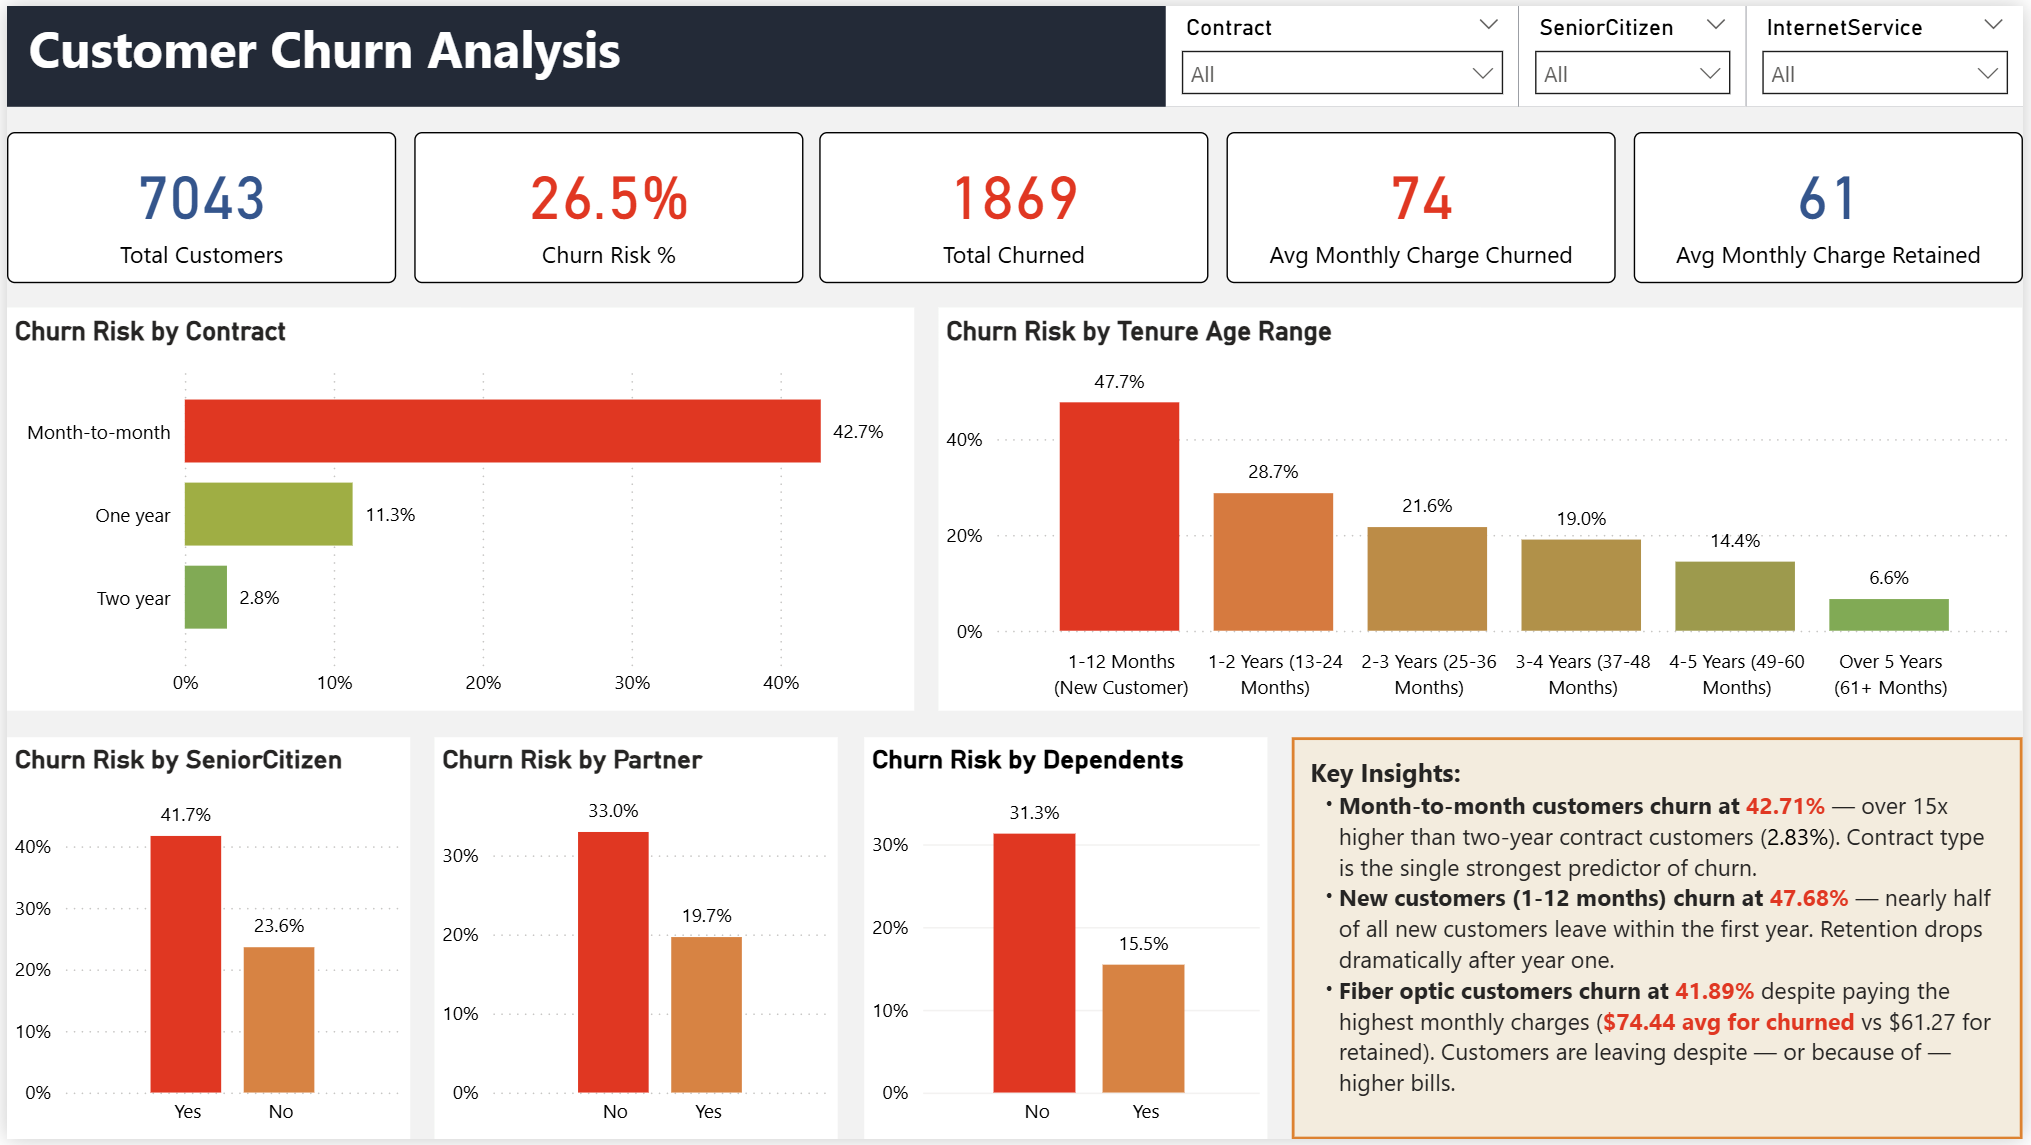

The page's visual inventory and layout, read from the dashboard file:
{"tool":"powerbi","page":{"name":"Customer Analysis","canvas":[1280,720],"ordinal":0},"visuals":[{"type":"card","fields":{"Values":["Customer.Total Customers"]},"box":[0,80,247.2,96],"z":0},{"type":"textbox","box":[0,0,1280,64],"z":1000},{"type":"card","fields":{"Values":["Customer.Churn Rate %"]},"box":[258.2,80,247.2,96],"z":2000},{"type":"clusteredBarChart","title":"Churn Risk by Contract","fields":{"Category":["Customer.Contract"],"Y":["Customer.Churn Rate %"]},"box":[0,192,576,256],"z":3000},{"type":"clusteredColumnChart","title":"Churn Risk by Tenure Age Range","fields":{"Category":["Customer.Tenure Age Range"],"Y":["Customer.Churn Risk %"]},"box":[592,192,688,256],"z":4000},{"type":"card","fields":{"Values":["Customer.Total Churned"]},"box":[516.4,80,247.2,96],"z":5000},{"type":"textbox","box":[816,464,464,256],"z":6000},{"type":"slicer","fields":{"Values":["Customer.InternetService"]},"box":[1104,0,176,64],"z":7000},{"type":"card","fields":{"Values":["Customer.Avg Monthly Charge Churned"]},"box":[774.6,80,247.2,96],"z":8000},{"type":"slicer","fields":{"Values":["Customer.SeniorCitizen"]},"box":[960,0,144,64],"z":9000},{"type":"slicer","fields":{"Values":["Customer.Contract"]},"box":[736,0,224,64],"z":10000},{"type":"card","fields":{"Values":["Customer.Avg Monthly Charge Retained"]},"box":[1032.8,80,247.2,96],"z":11000},{"type":"clusteredColumnChart","title":"Churn Risk by SeniorCitizen","fields":{"Category":["Customer.SeniorCitizen Label"],"Y":["Customer.Churn Risk %"]},"box":[0,464,256,256],"z":12000},{"type":"clusteredColumnChart","title":"Churn Risk by Partner","fields":{"Y":["Customer.Churn Risk %"],"Category":["Customer.Partner Label"]},"box":[272,464,256,256],"z":13000},{"type":"clusteredColumnChart","title":"Churn Risk by Dependents","fields":{"Y":["Customer.Churn Risk %"],"Category":["Customer.Dependents Label"]},"box":[544,464,256,256],"z":14000}]}

Visuals, with their boxes in screenshot pixels (x1, y1, x2, y2), scaled from the page's 1280x720 canvas onto the 2031x1145 screenshot:
card - Customer.Total Customers: l=0, t=127, r=392, b=280
textbox: l=0, t=0, r=2030, b=102
card - Customer.Churn Rate %: l=410, t=127, r=802, b=280
"Churn Risk by Contract" clusteredBarChart: l=0, t=305, r=914, b=712
"Churn Risk by Tenure Age Range" clusteredColumnChart: l=939, t=305, r=2030, b=712
card - Customer.Total Churned: l=819, t=127, r=1212, b=280
textbox: l=1295, t=738, r=2030, b=1144
slicer - Customer.InternetService: l=1752, t=0, r=2030, b=102
card - Customer.Avg Monthly Charge Churned: l=1229, t=127, r=1621, b=280
slicer - Customer.SeniorCitizen: l=1523, t=0, r=1752, b=102
slicer - Customer.Contract: l=1168, t=0, r=1523, b=102
card - Customer.Avg Monthly Charge Retained: l=1639, t=127, r=2030, b=280
"Churn Risk by SeniorCitizen" clusteredColumnChart: l=0, t=738, r=406, b=1144
"Churn Risk by Partner" clusteredColumnChart: l=432, t=738, r=838, b=1144
"Churn Risk by Dependents" clusteredColumnChart: l=863, t=738, r=1269, b=1144
